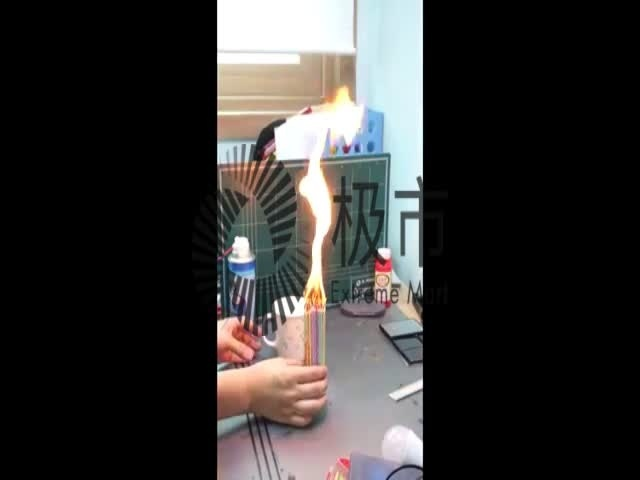fire: (288, 79, 372, 308)
